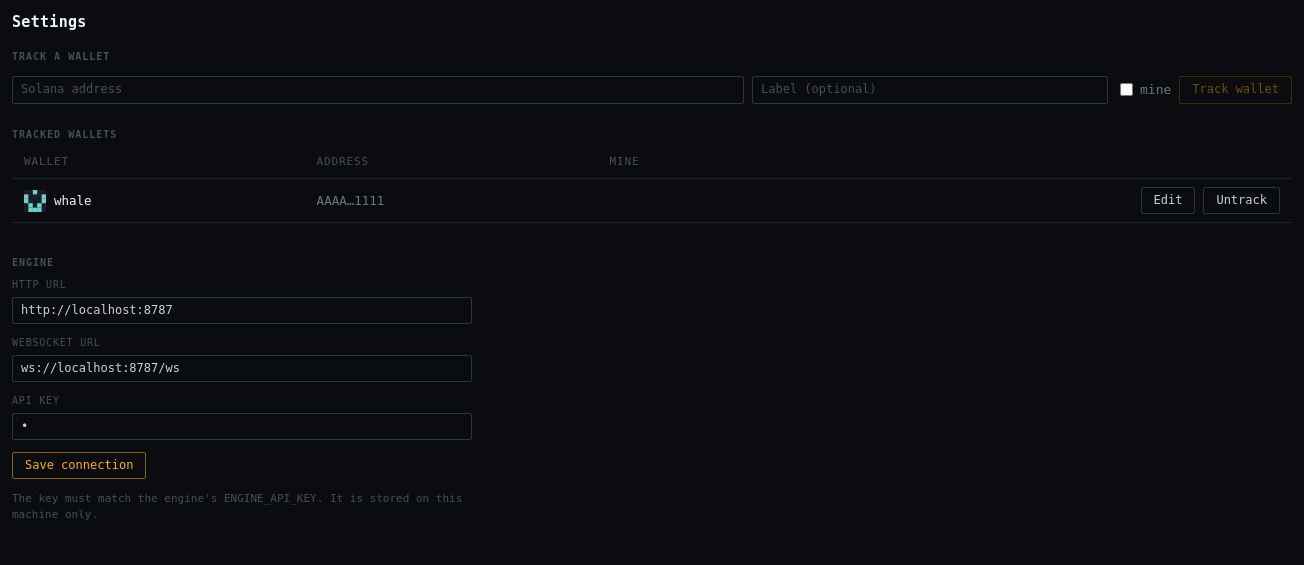
Test case: SettingsTab › keeps the wallet when the confirmation is declined
Click the button "Untrack": [1242, 201] box [1203,187,1280,214]
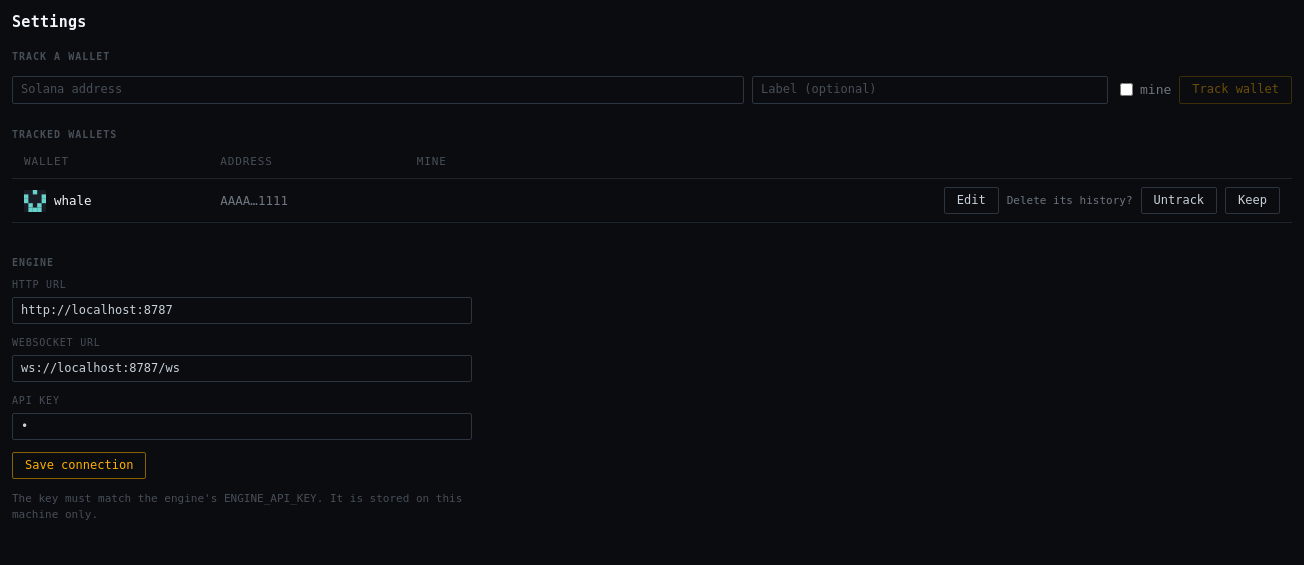
Click the button "Keep": [1253, 201] box [1225,187,1280,214]
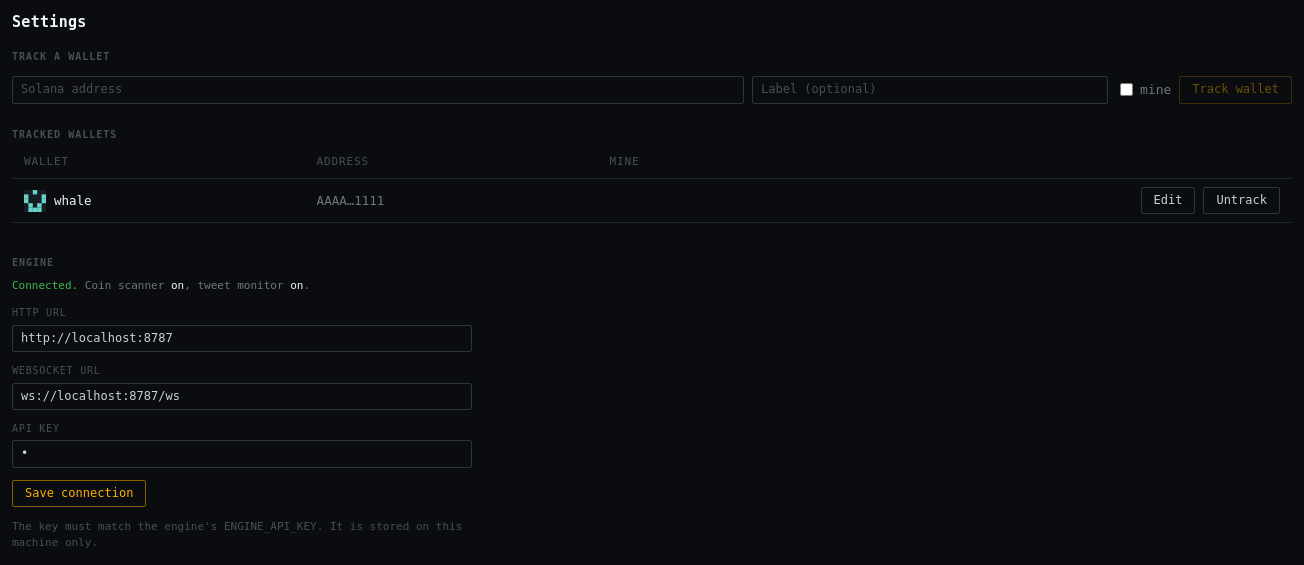
Expected: the text "Delete its history?" is gone
